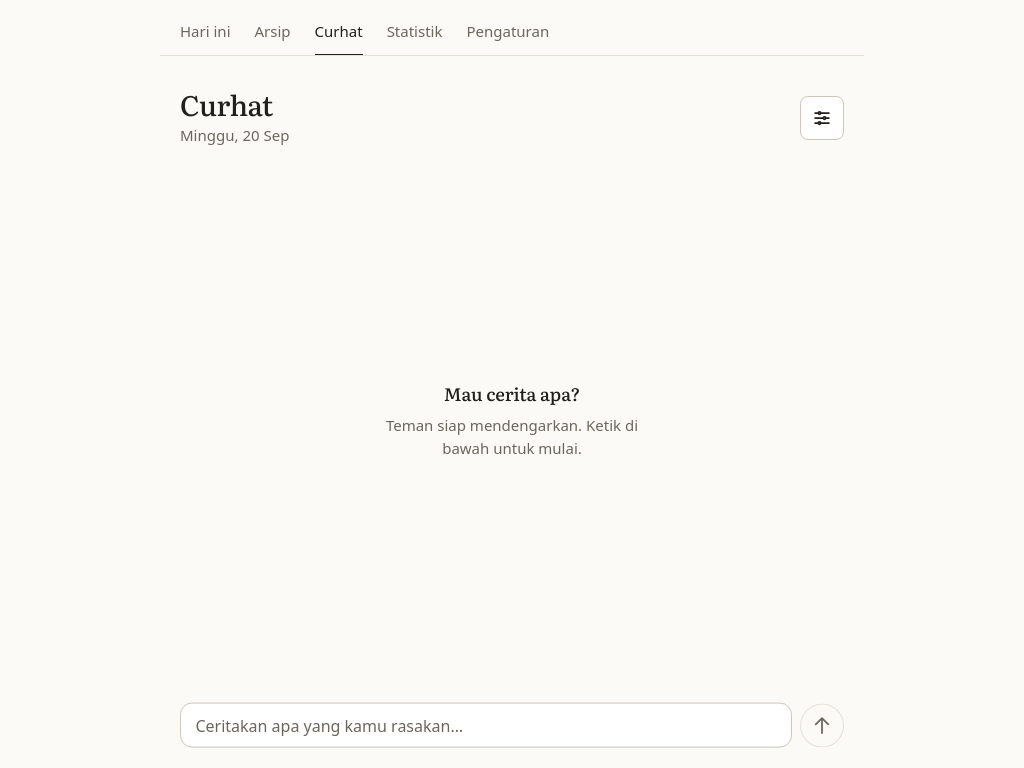
the help card stays after a refusal even once a retry succeeds, placed between the messages and the composer
This screenshot has width=1024, height=768.
Type "halo" into the text box named "Pesan".
click(486, 726); type("halo")  # box [180,703,792,748]
Then press Enter
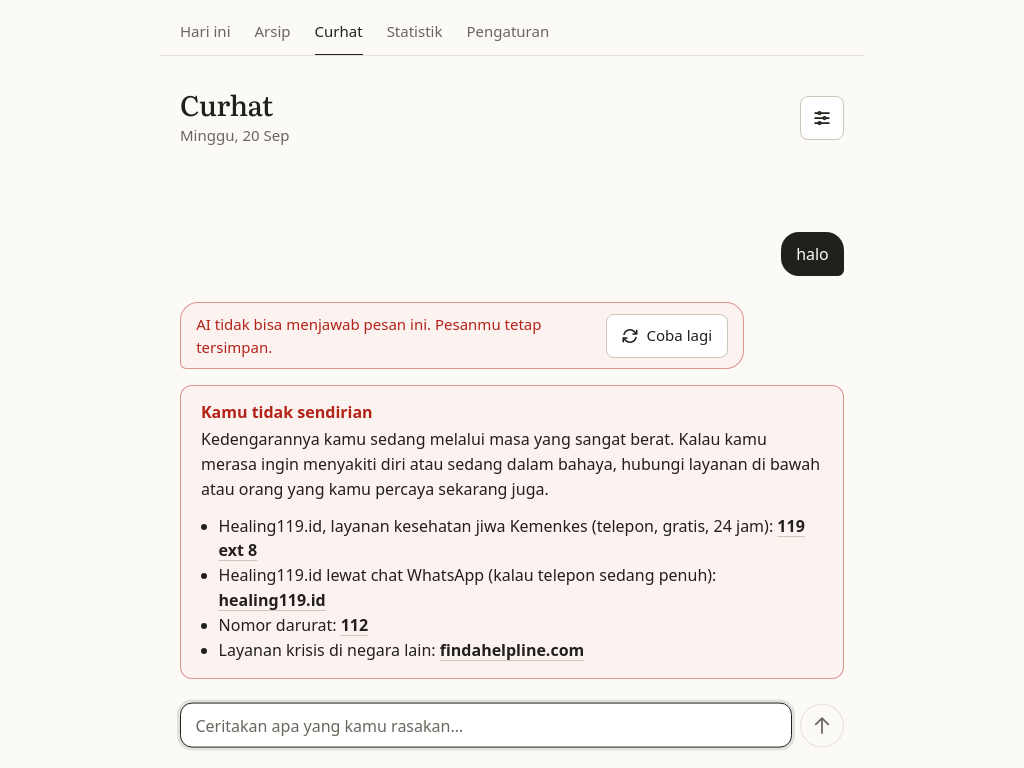
Expected: the message shows "AI tidak bisa menjawab pesan ini.", [196,314,431,334]
Click the button "Coba lagi".
click(667, 336)  # box [606,314,728,358]
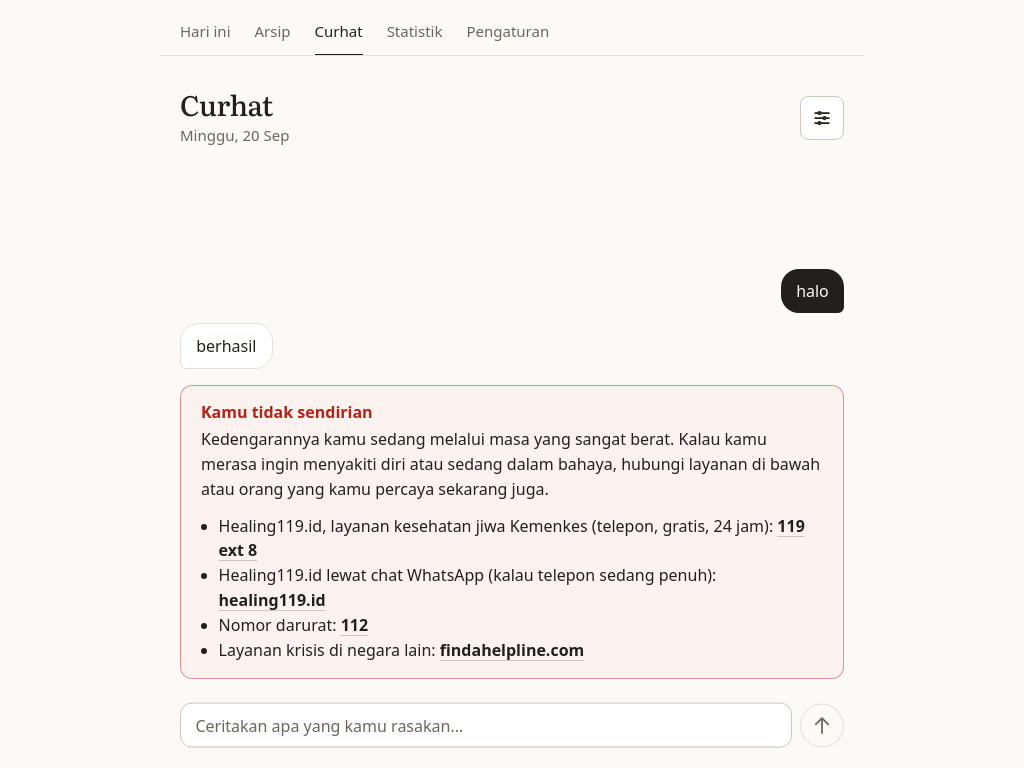
Expected: the message "AI tidak bisa menjawab pesan ini. Pesanmu tetap tersimpan. Coba lagi" is gone
